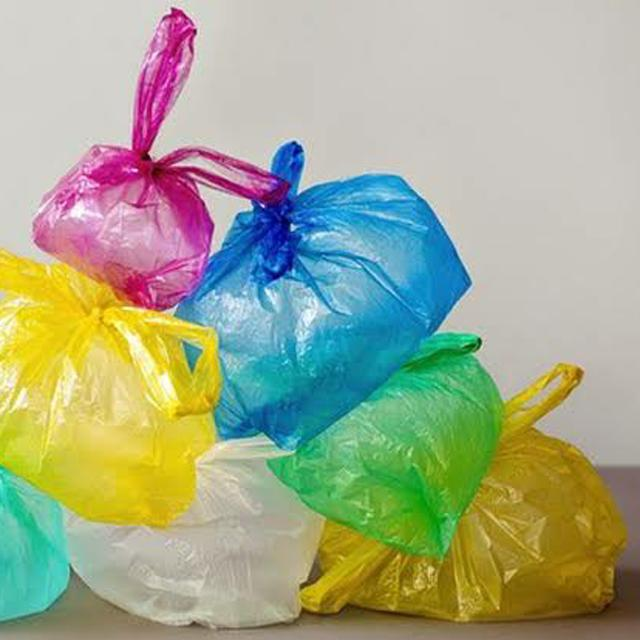Single-layer Plastic: (176, 142, 470, 449), (301, 364, 626, 621), (32, 8, 289, 309), (0, 251, 220, 524), (269, 334, 504, 557), (68, 436, 324, 628)
